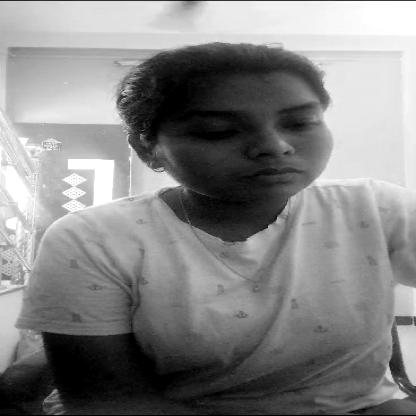Distracted: (150, 76, 335, 200)
